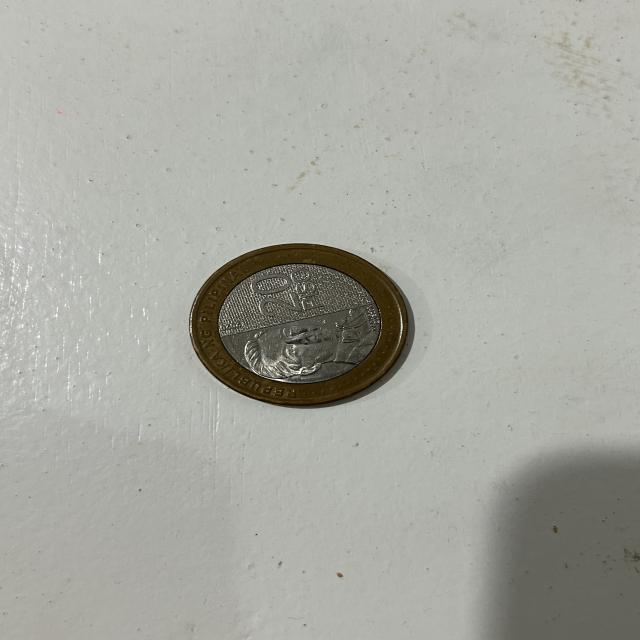20_New_Front: (238, 268, 334, 319)
